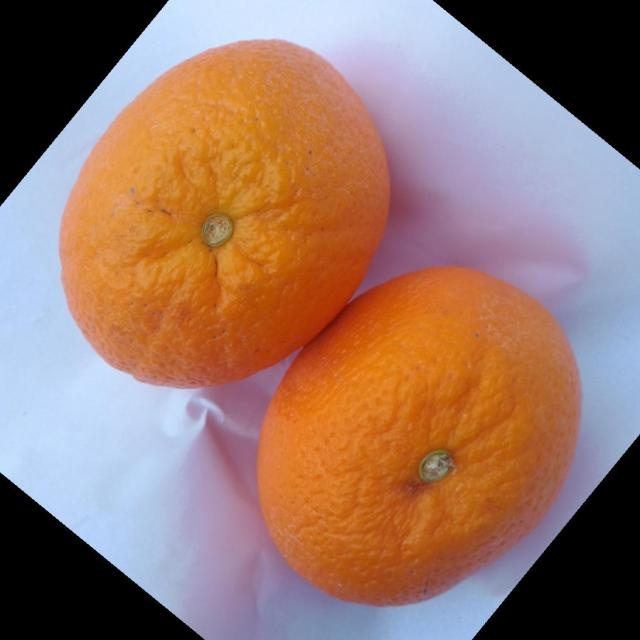agrume: (57, 36, 392, 389), (255, 264, 582, 608)
